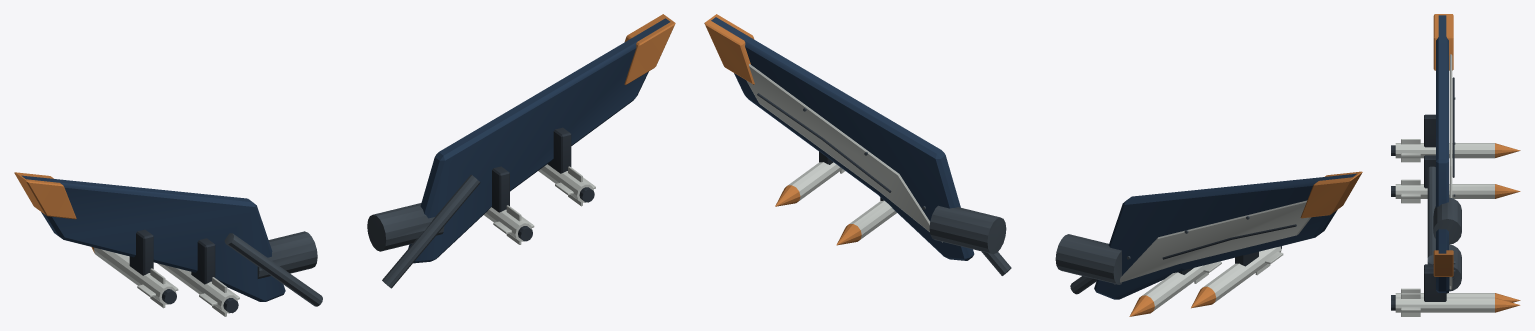
Rendered from backpack.glb.
3 views of the same model, side by side, from view 1: azimuth 30°, elevation 25°; view 2: azimuth 150°, elevation 25°; view 3: azimuth 270°, elevation 25° (orthographic). The views are drawn at different scales.
Visible parts, largest first — view 1: R_Swept_wing, L_Swept_wing, R_Binder_hinge, R_Wing_actuator, L_Binder_hinge, R_Orange_wingtip, L_Orange_wingtip, L_Wing_actuator, L_AGMM_body.001, L_AGMM_body, L_Store_pylon.001, L_Store_pylon (+4 smaller); view 2: R_Swept_wing, L_Swept_wing, L_White_wing_underside, R_White_wing_underside, R_Binder_hinge, L_Binder_hinge, R_Orange_wingtip, L_Orange_wingtip, L_AGMM_body.001, L_AGMM_body, R_AGMM_body.001, R_AGMM_body; view 3: L_Swept_wing, R_AGMM_body.001, L_AGMM_body.001, L_AGMM_body, L_Binder_hinge, L_Wing_actuator, L_Orange_wingtip, L_White_wing_underside, R_Orange_wingtip, R_Swept_wing, R_Store_pylon.001, L_Store_pylon.001 (+13 smaller).
Boxes of the visible parts, box(x1,y1,x2,y2) form: R_Swept_wing: box(408, 18, 670, 263); L_Swept_wing: box(21, 175, 285, 301); R_Binder_hinge: box(367, 203, 444, 251); R_Wing_actuator: box(382, 174, 480, 288); L_Binder_hinge: box(257, 231, 317, 278); R_Orange_wingtip: box(624, 14, 675, 84); L_Orange_wingtip: box(14, 172, 76, 219); L_Wing_actuator: box(224, 233, 322, 306); L_AGMM_body.001: box(94, 247, 176, 304); L_AGMM_body: box(157, 263, 237, 313); L_Store_pylon.001: box(129, 229, 153, 275); L_Store_pylon: box(191, 238, 215, 284); R_Swept_wing: box(711, 17, 974, 260); L_Swept_wing: box(1094, 173, 1356, 299); L_White_wing_underside: box(1114, 200, 1311, 284); R_White_wing_underside: box(746, 64, 942, 242); R_Binder_hinge: box(929, 205, 1006, 254); L_Binder_hinge: box(1055, 234, 1121, 284); R_Orange_wingtip: box(704, 14, 754, 84); L_Orange_wingtip: box(1300, 171, 1362, 218); L_AGMM_body.001: box(1204, 246, 1281, 302); L_AGMM_body: box(1142, 263, 1211, 311); R_AGMM_body.001: box(788, 162, 842, 201); R_AGMM_body: box(849, 200, 896, 240); L_Swept_wing: box(1436, 15, 1448, 207); R_AGMM_body.001: box(1395, 297, 1494, 312); L_AGMM_body.001: box(1395, 143, 1494, 158); L_AGMM_body: box(1395, 184, 1494, 198); L_Binder_hinge: box(1433, 197, 1461, 244); L_Wing_actuator: box(1427, 166, 1435, 257); L_Orange_wingtip: box(1433, 14, 1453, 70); L_White_wing_underside: box(1449, 54, 1452, 197); R_Orange_wingtip: box(1433, 250, 1453, 276); R_Swept_wing: box(1436, 229, 1448, 293); R_Store_pylon.001: box(1424, 269, 1446, 301); L_Store_pylon.001: box(1424, 114, 1435, 147).
Bounding box in the file's own units: 1.86 × 0.5311 × 0.425.
